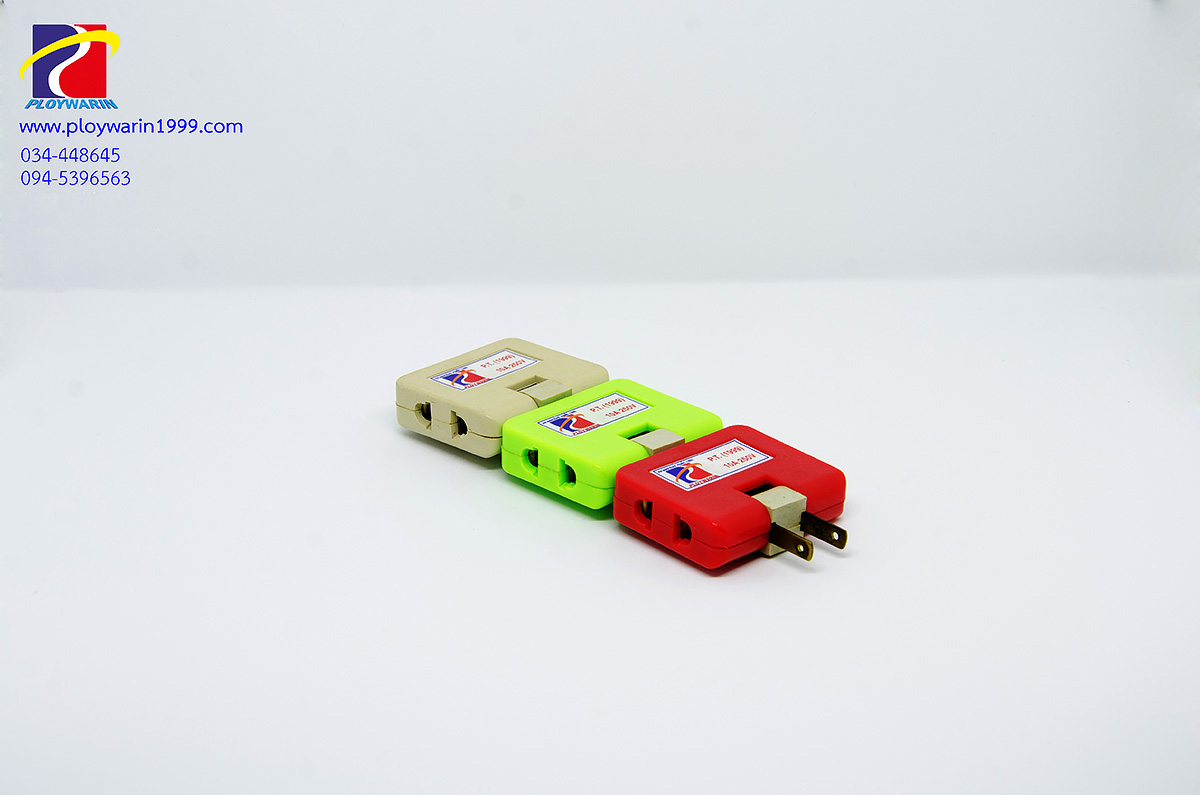Three_eye_plug: (601, 415, 858, 584), (499, 375, 728, 516), (392, 333, 611, 469)
